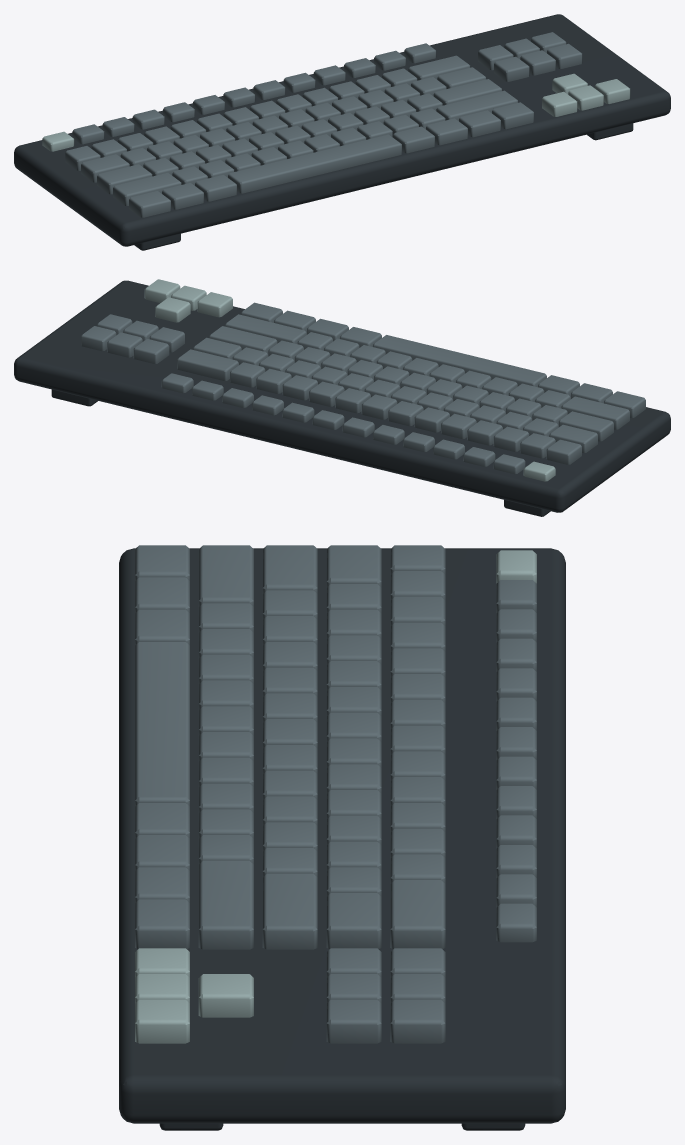
The model's file is keyboard_v06b.glb.
3 renders of one model, top to bottom at view 1: azimuth 30°, elevation 25°; view 2: azimuth 150°, elevation 25°; view 3: azimuth 270°, elevation 25°, orthographic. The views are drawn at different scales.
Visible parts, largest first — view 1: VIS_KeyboardMerged_1, VIS_KeyboardMerged_0, VIS_KeyboardMerged_2; view 2: VIS_KeyboardMerged_1, VIS_KeyboardMerged_0, VIS_KeyboardMerged_2; view 3: VIS_KeyboardMerged_1, VIS_KeyboardMerged_0, VIS_KeyboardMerged_2.
Part boxes in pixels (bbox=[...]): VIS_KeyboardMerged_1: bbox=[65, 32, 582, 217]; VIS_KeyboardMerged_0: bbox=[14, 14, 670, 250]; VIS_KeyboardMerged_2: bbox=[42, 73, 630, 151]; VIS_KeyboardMerged_1: bbox=[81, 302, 645, 474]; VIS_KeyboardMerged_0: bbox=[14, 280, 670, 516]; VIS_KeyboardMerged_2: bbox=[144, 279, 555, 481]; VIS_KeyboardMerged_1: bbox=[135, 545, 536, 1043]; VIS_KeyboardMerged_0: bbox=[119, 548, 565, 1130]; VIS_KeyboardMerged_2: bbox=[135, 550, 536, 1043].
Size of the model in its own units: 0.438 by 0.039 by 0.154.
